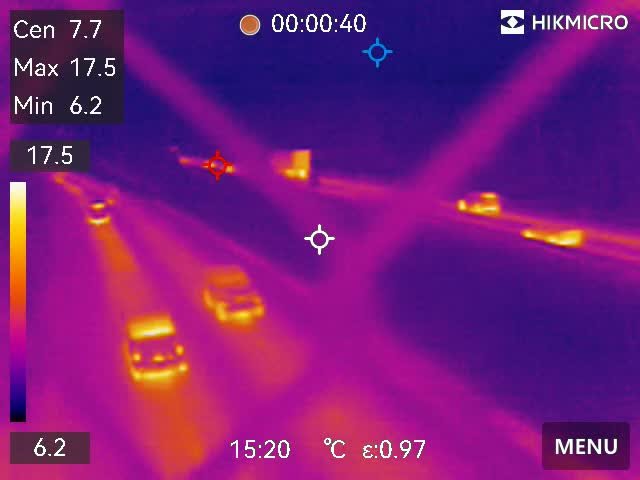heavyTruck: (271, 148, 316, 177)
vehicle: (114, 300, 194, 379), (196, 268, 272, 320)
